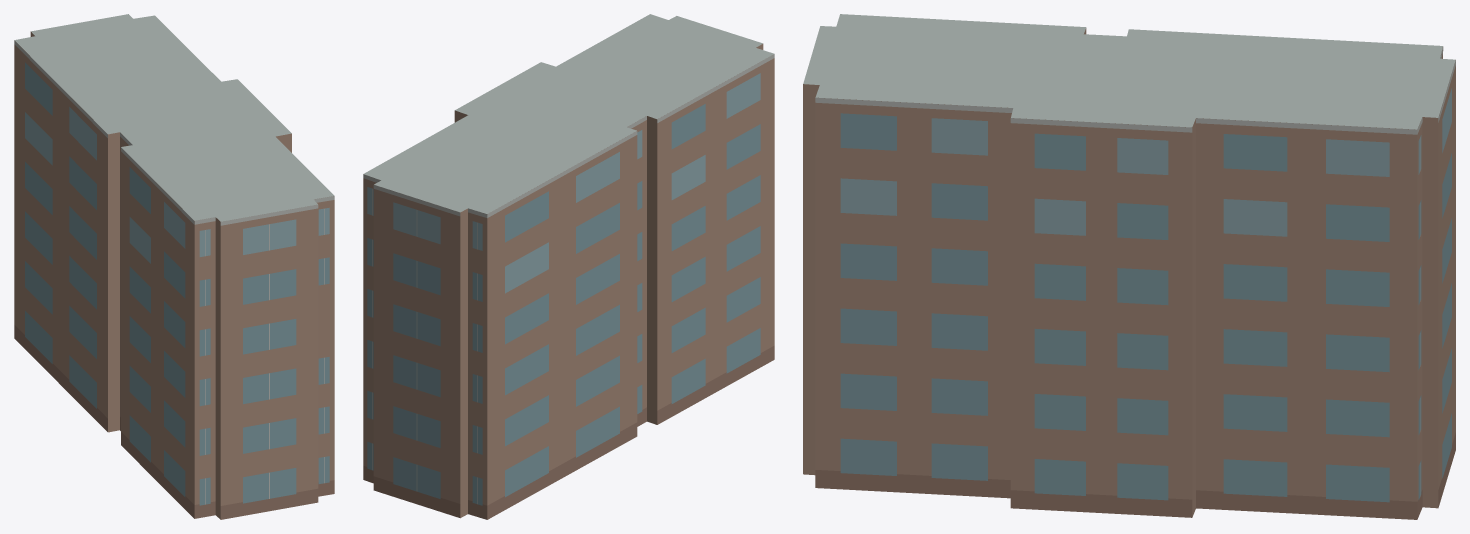
The model's file is survey-upis-32966661.glb.
The picture shows the model from 3 angles, left to right: view 1: azimuth 30°, elevation 25°; view 2: azimuth 150°, elevation 25°; view 3: azimuth 270°, elevation 25°; orthographic projection. The views are drawn at different scales.
Visible parts, largest first — view 1: survey-upis-32966661.tmp; view 2: survey-upis-32966661.tmp; view 3: survey-upis-32966661.tmp.
Part boxes in pixels (x1=…): survey-upis-32966661.tmp: x1=14, y1=14, x2=334, y2=519; survey-upis-32966661.tmp: x1=363, y1=14, x2=774, y2=519; survey-upis-32966661.tmp: x1=803, y1=14, x2=1455, y2=519.
Bounding box in the file's own units: 11.69 × 18.4 × 27.9.
